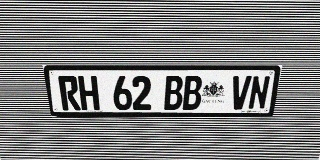2: (132, 76, 151, 110)
6: (112, 76, 132, 110)
B: (182, 76, 203, 110), (164, 76, 183, 110)
H: (78, 76, 100, 110)
N: (248, 76, 271, 110)
R: (58, 76, 81, 110)
V: (229, 76, 252, 110)
